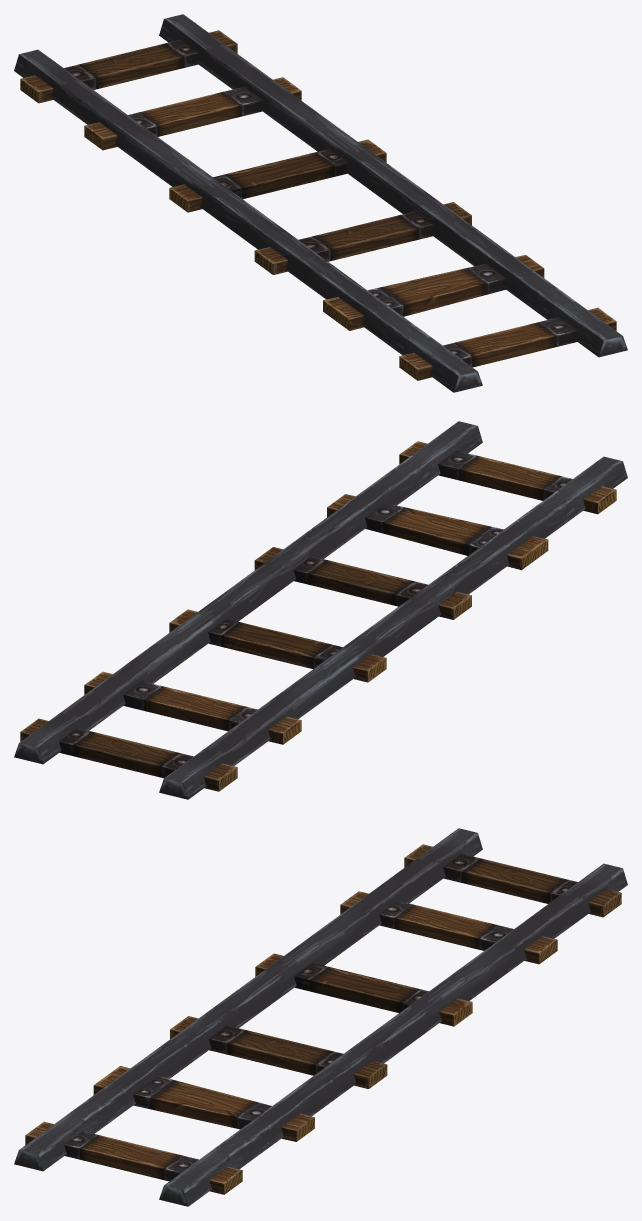
File: Wagon_Tracks1.fbx
The picture shows the model from 3 angles, top to bottom: view 1: azimuth 30°, elevation 25°; view 2: azimuth 150°, elevation 25°; view 3: azimuth 330°, elevation 25°; orthographic projection.
Parts seen in each view (by area): view 1: polySurface36; view 2: polySurface36; view 3: polySurface36.
Part boxes in pixels (<box>): polySurface36: <box>14,14,627,392</box>; polySurface36: <box>14,421,627,799</box>; polySurface36: <box>14,828,627,1206</box>.
Bounding box in the file's own units: 1.31 × 0.1129 × 5.
1 material, 1 textured.
